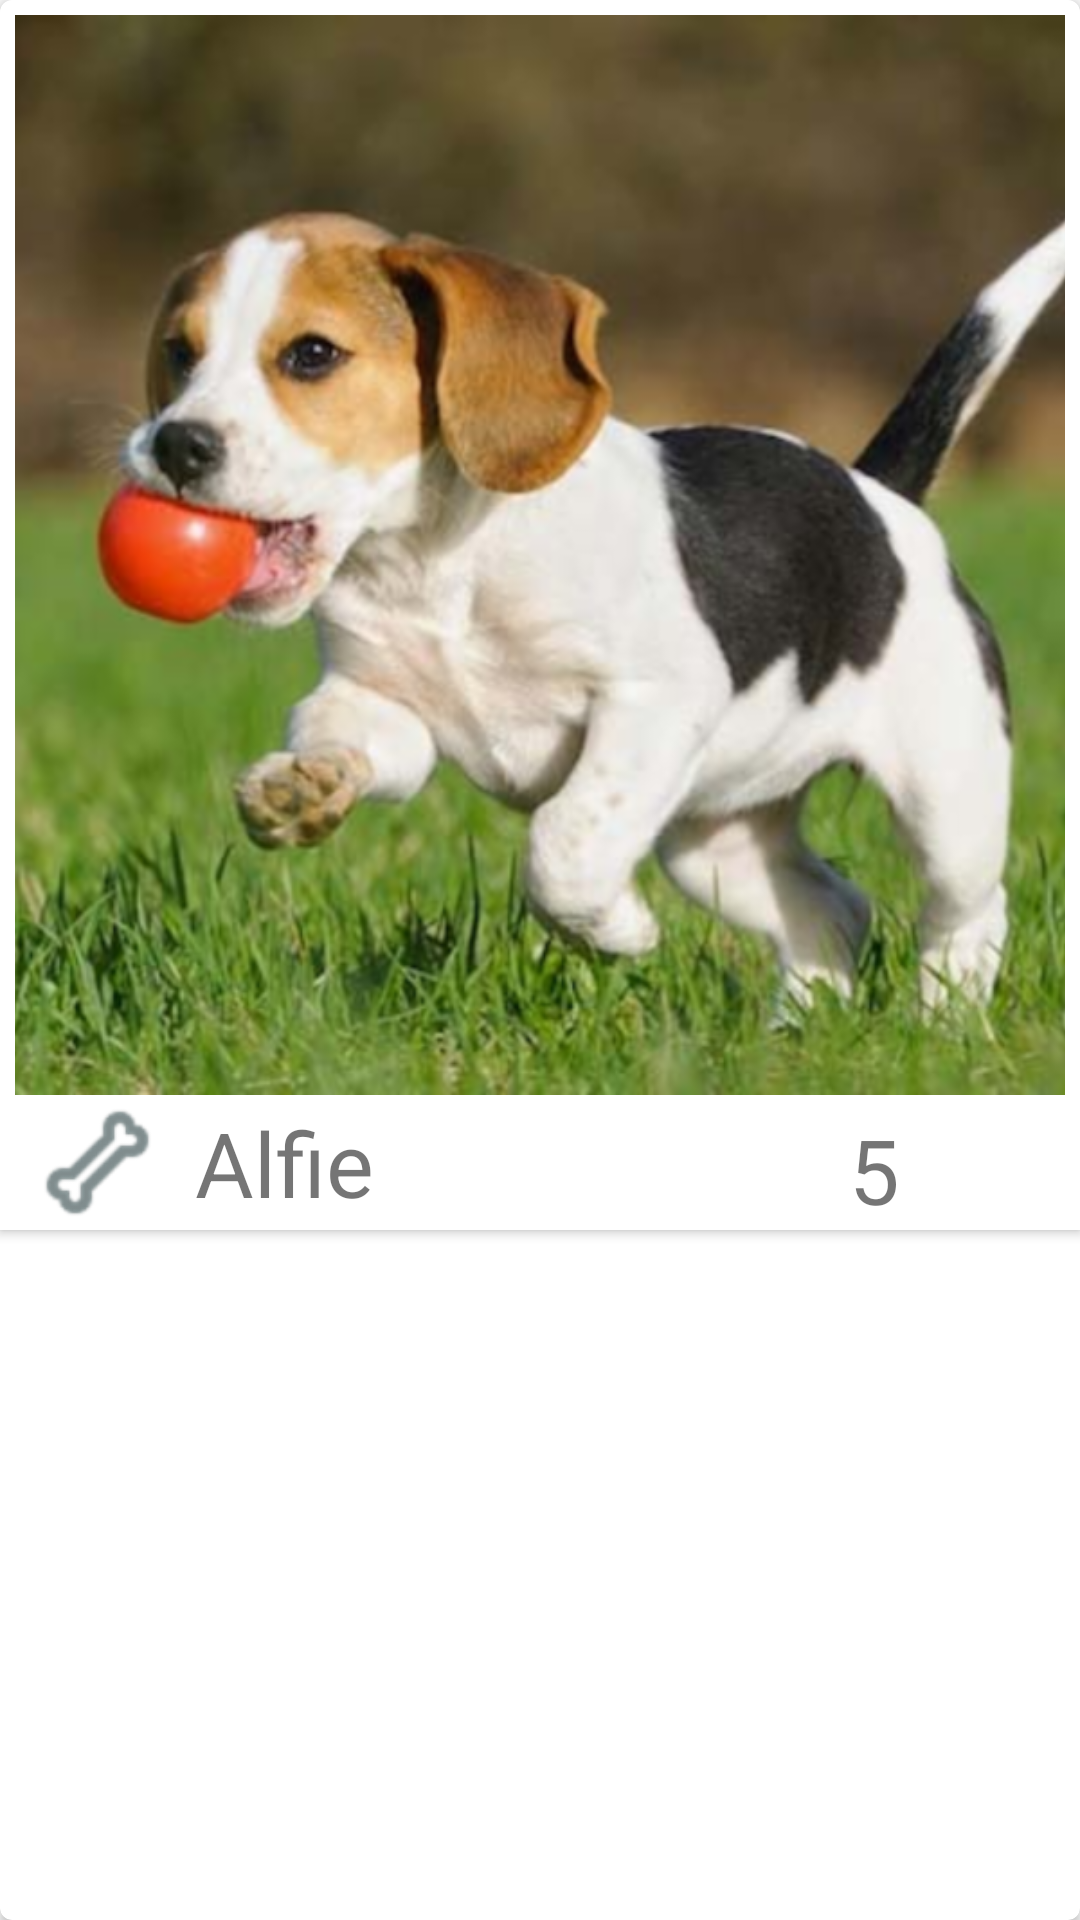

Icon bounding boxes for this 1080 × 1920 phone screenshot, format (x1, y1, x2, y2):
bone: (46, 1111, 149, 1214)
